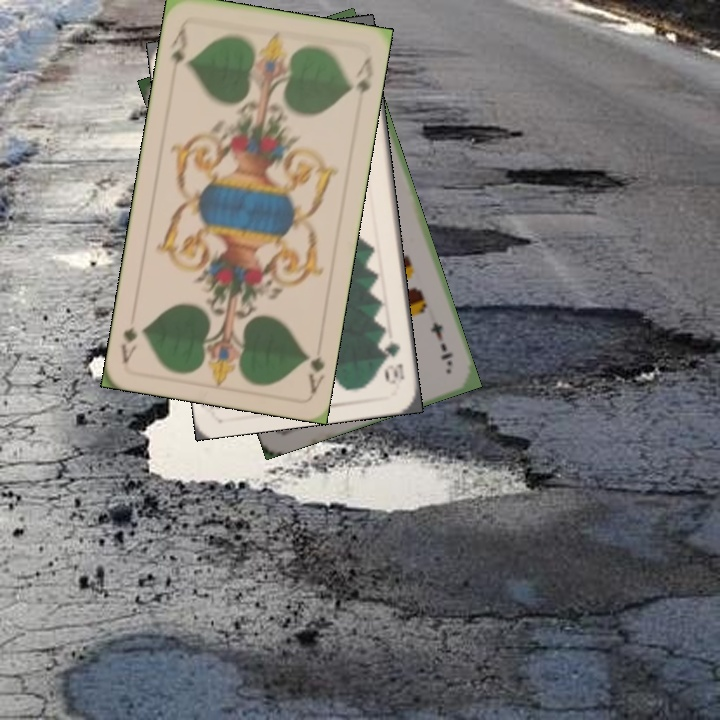E7: (426, 318, 456, 369)
G10: (379, 337, 407, 387)
GA: (165, 19, 190, 78), (301, 349, 327, 396)
